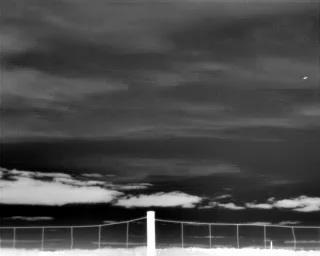AIRPLANE: (300, 73, 309, 83)
